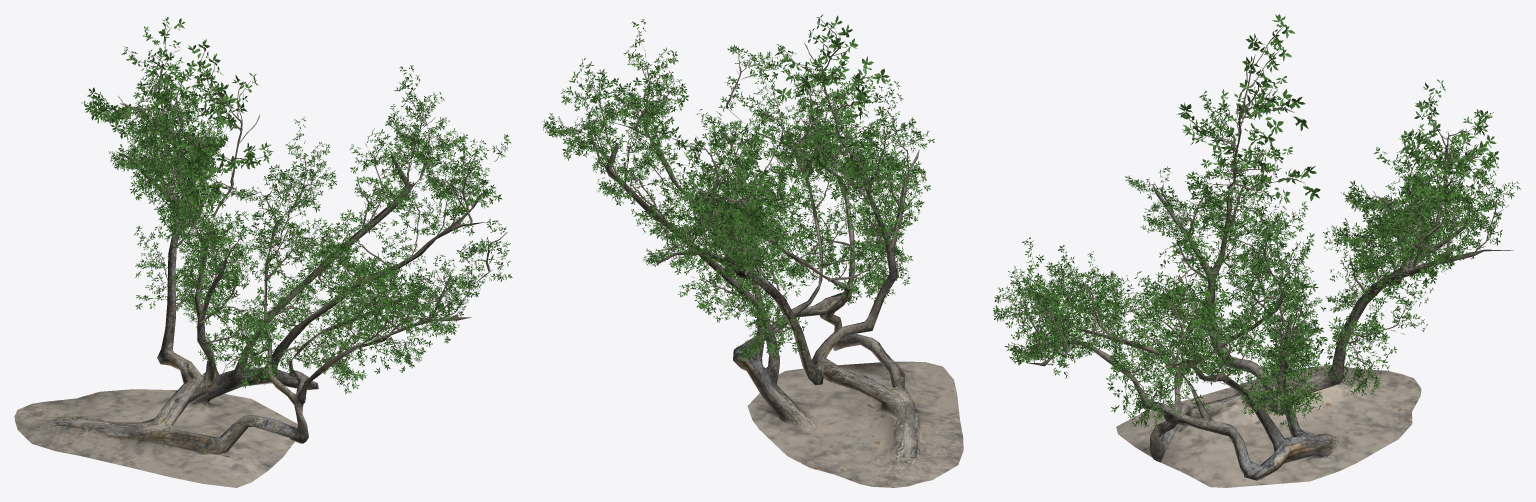
File: village-pbr-island_tree_03.glb
3 views of the same model, side by side, from view 1: azimuth 30°, elevation 25°; view 2: azimuth 150°, elevation 25°; view 3: azimuth 270°, elevation 25° (orthographic). The views are drawn at different scales.
Visible parts, largest first — view 1: island_tree_03_LOD0; view 2: island_tree_03_LOD0; view 3: island_tree_03_LOD0.
Part boxes in pixels (<box>): island_tree_03_LOD0: <box>14,16,512,487</box>; island_tree_03_LOD0: <box>542,14,963,487</box>; island_tree_03_LOD0: <box>993,14,1520,487</box>.
Size of the model in its own units: 2.96 by 2.61 by 2.91.
Materials: 3 (3 with a texture image).
